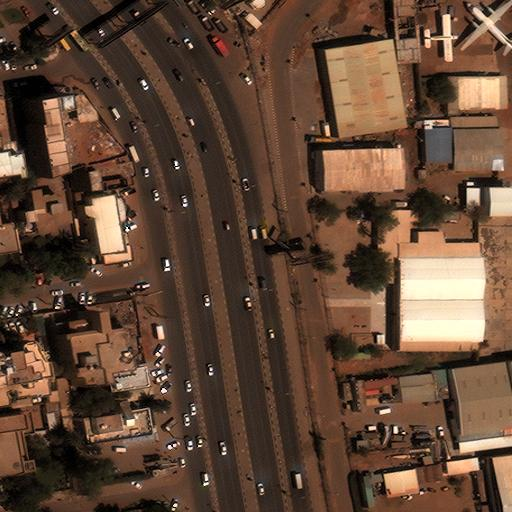Medium Civil Transport: (460, 0, 512, 48), (423, 14, 458, 60)
